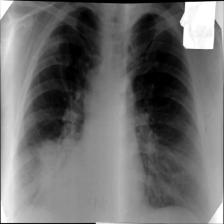tuberculosis: (9, 5, 210, 216)
